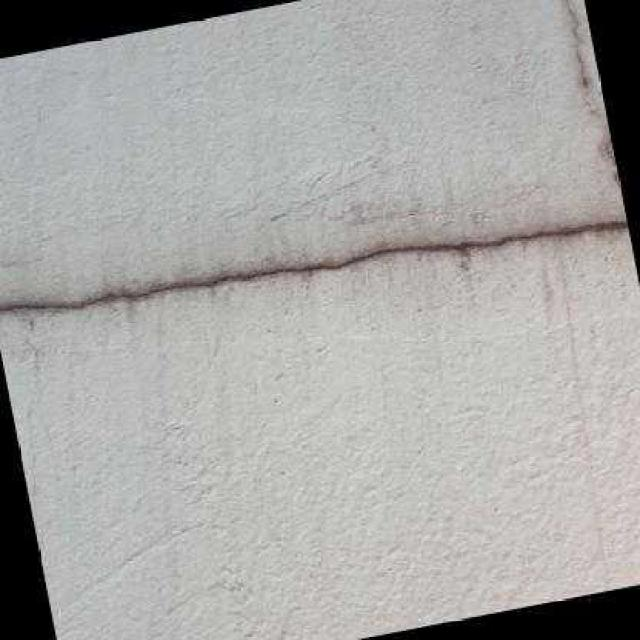D00: (0, 219, 626, 311), (560, 0, 616, 167)
